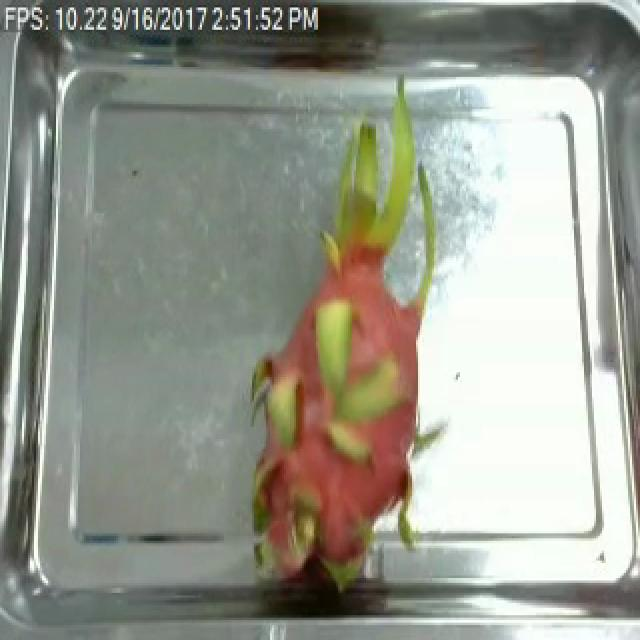fruit: (198, 174, 462, 605)
